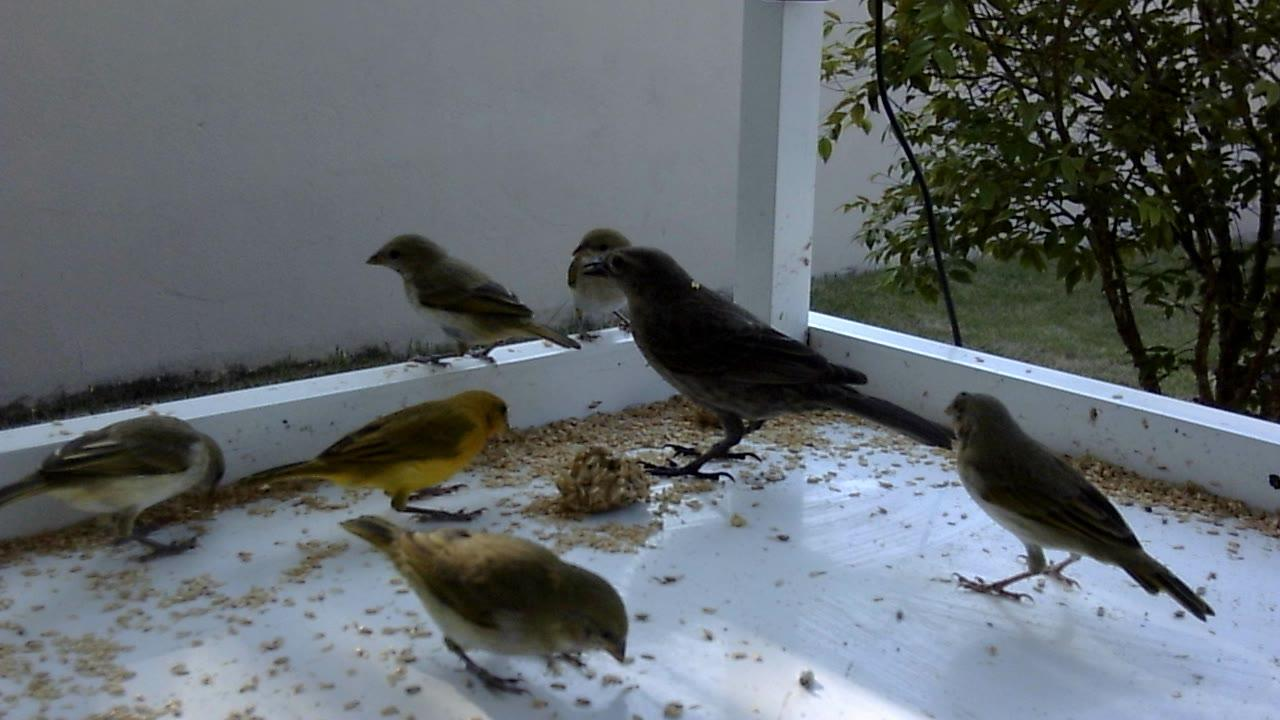canario_do_amazonas: (940, 389, 1219, 630), (338, 510, 633, 705), (239, 385, 518, 528), (1, 413, 233, 570), (360, 230, 585, 374), (568, 224, 638, 345)
chupim: (583, 245, 956, 486)
